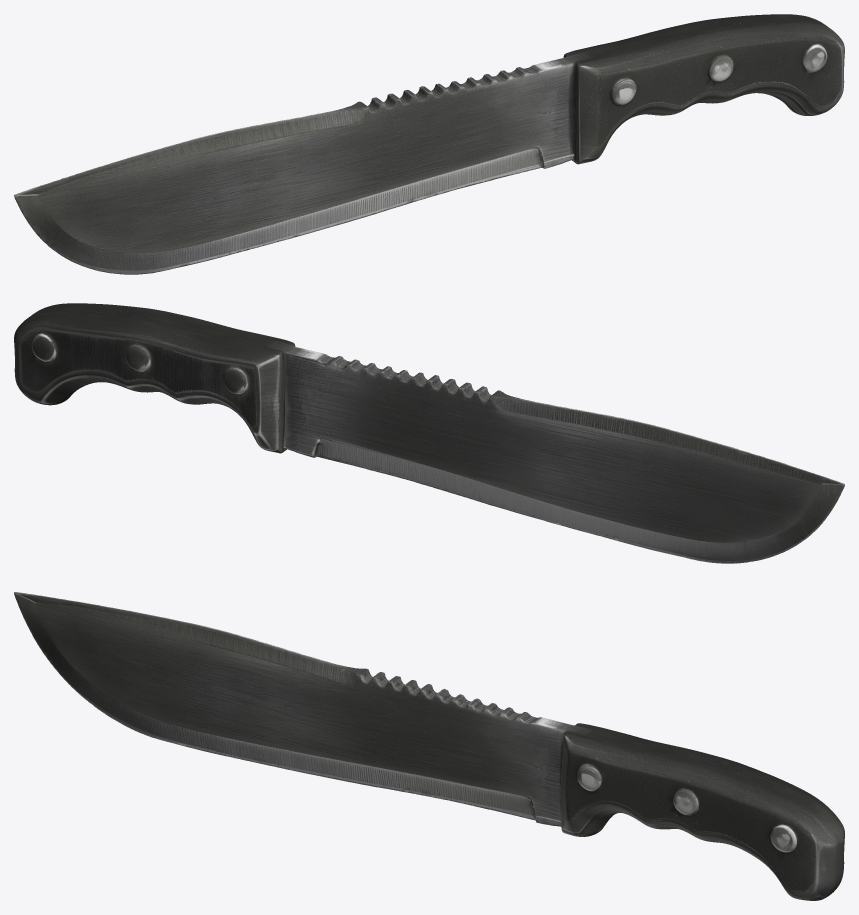
Rendered from Meshy_AI_Serrated_Sentinel_Mac_0427004358_texture.fbx.
3 renders of one model, top to bottom at view 1: azimuth 30°, elevation 25°; view 2: azimuth 150°, elevation 25°; view 3: azimuth 330°, elevation 25°, orthographic.
Parts seen in each view (by area): view 1: Mesh_0; view 2: Mesh_0; view 3: Mesh_0.
Boxes of the visible parts, x1,y1,x2,y2 form: Mesh_0: (14, 14, 844, 274); Mesh_0: (14, 303, 844, 563); Mesh_0: (14, 592, 844, 900).
Bounding box in the file's own units: 190 × 27.3 × 15.48.
Materials: 1 (1 with a texture image).
